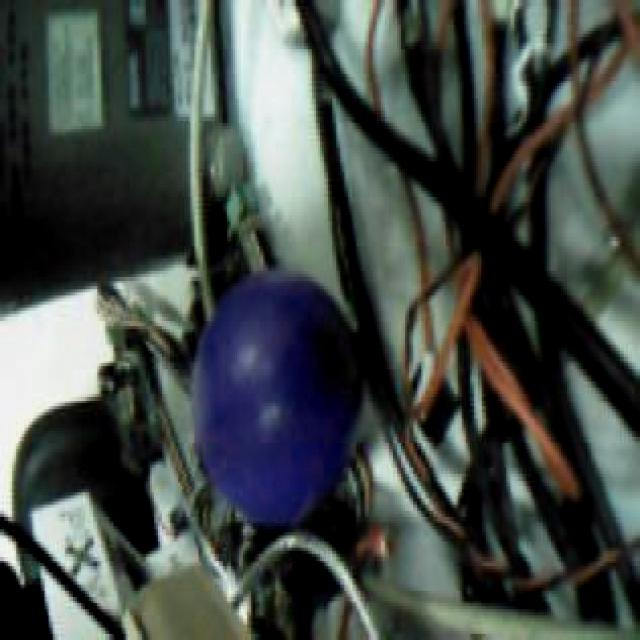BallPurple: (187, 269, 362, 532)
